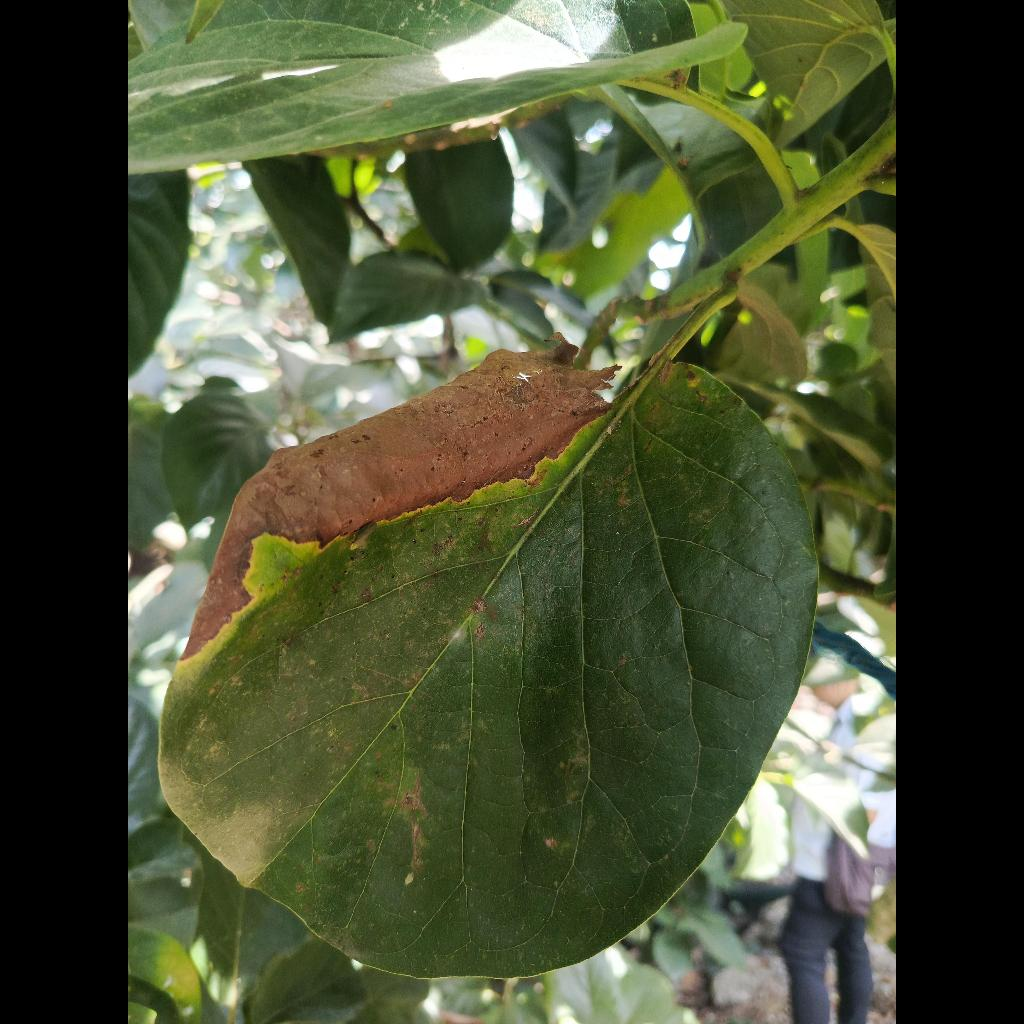Anthracnose: (160, 346, 815, 976)
